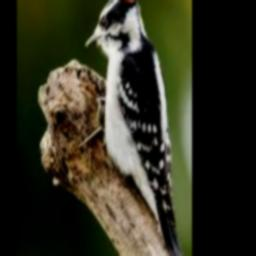Woodpecker: (78, 0, 188, 256)
